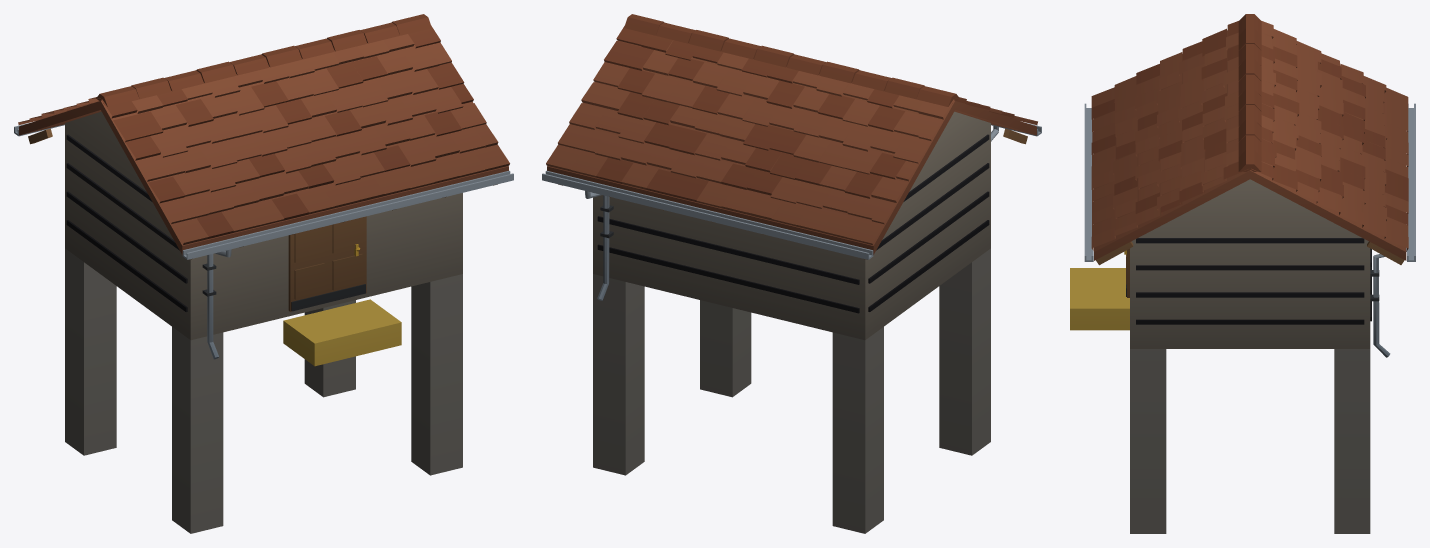
The model's file is Hayloft.fbx.
The picture shows the model from 3 angles, left to right: view 1: azimuth 30°, elevation 25°; view 2: azimuth 150°, elevation 25°; view 3: azimuth 270°, elevation 25°; orthographic projection. The views are drawn at different scales.
Visible parts, largest first — view 1: Hayloft_LOD0; view 2: Hayloft_LOD0; view 3: Hayloft_LOD0.
Part boxes in pixels (x1=…): Hayloft_LOD0: x1=14, y1=14, x2=513, y2=533; Hayloft_LOD0: x1=542, y1=14, x2=1041, y2=533; Hayloft_LOD0: x1=1070, y1=14, x2=1415, y2=533.
Size of what is drawn, in the model's own units: 6 by 7.02 by 5.76.
1 material, 1 textured.
